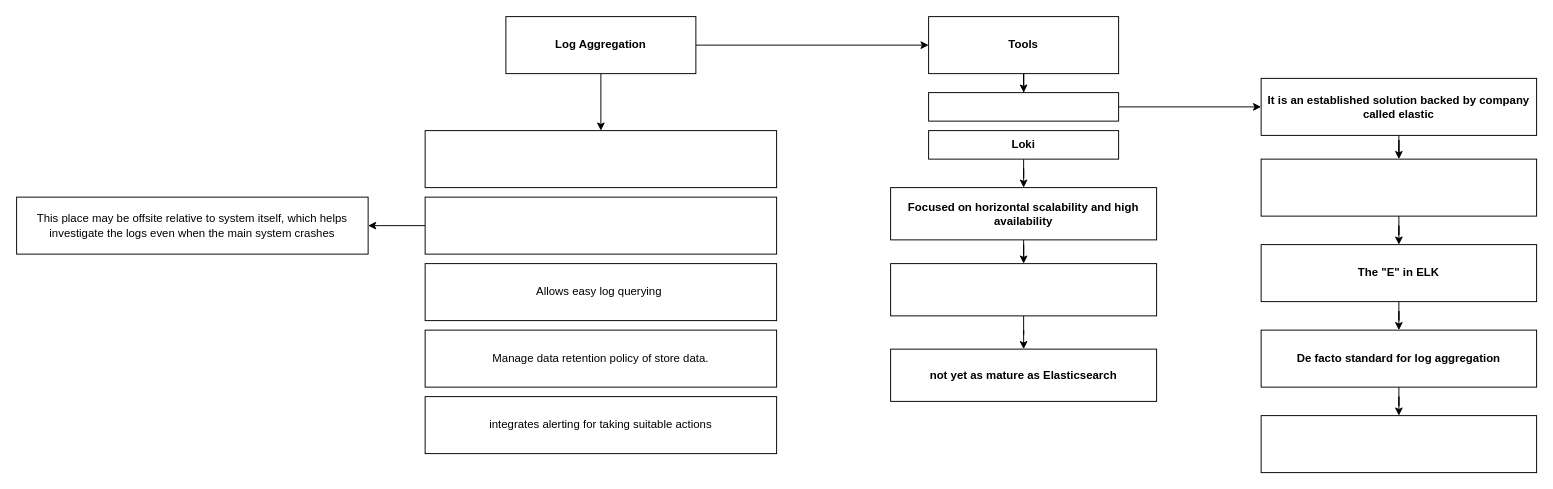
This 1553x489 diagram has some shape labels left out. The box of each missing label's shape, as (x1, y1, x2, y2) in pixels:
ElasticSearch: (928, 92, 1119, 121)
Great search engine: (1260, 415, 1537, 473)
Inspired by prometheus: (890, 263, 1157, 316)
Let's you store logs in a centralized place: (424, 196, 777, 254)
Popular for self hosted log aggregation: (1260, 158, 1537, 216)
To decide where to store all the logs that will be processed: (424, 130, 777, 188)
